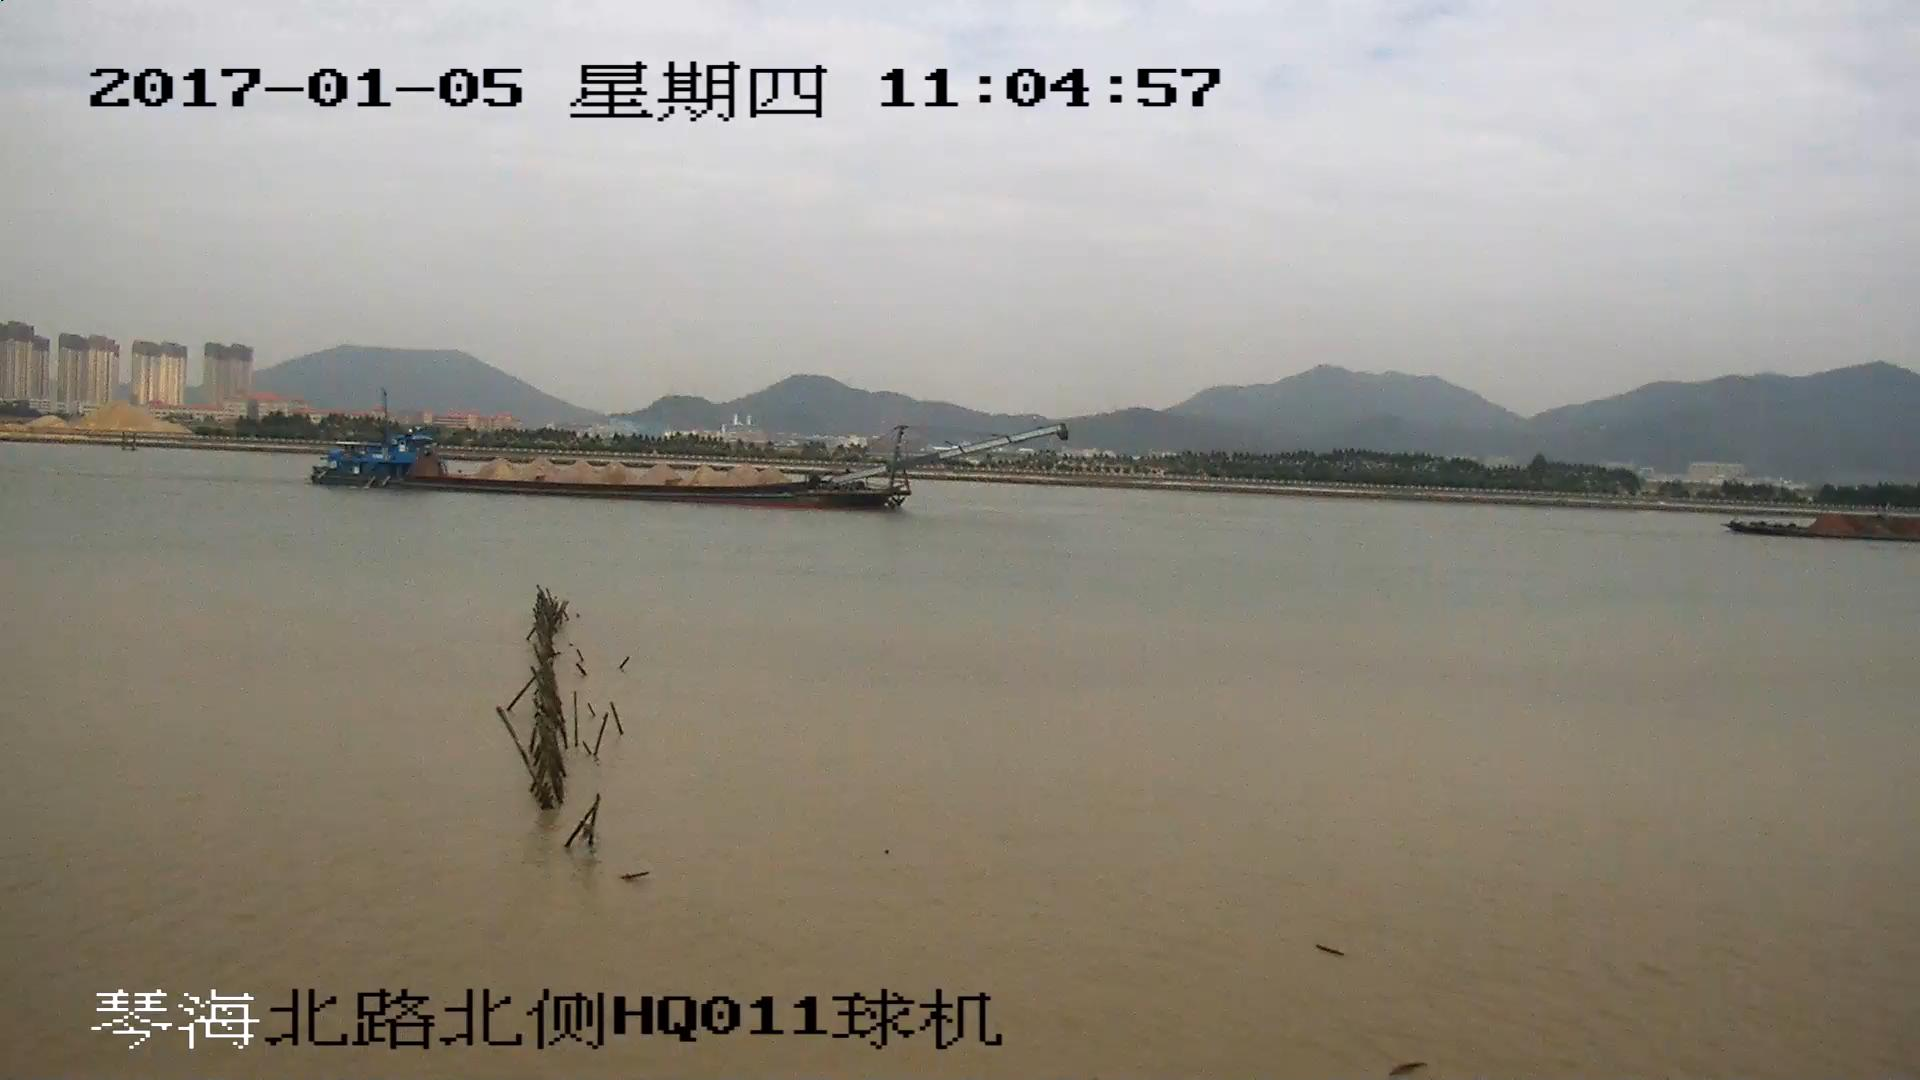ore carrier: (316, 428, 1058, 512), (1734, 512, 1920, 545)
